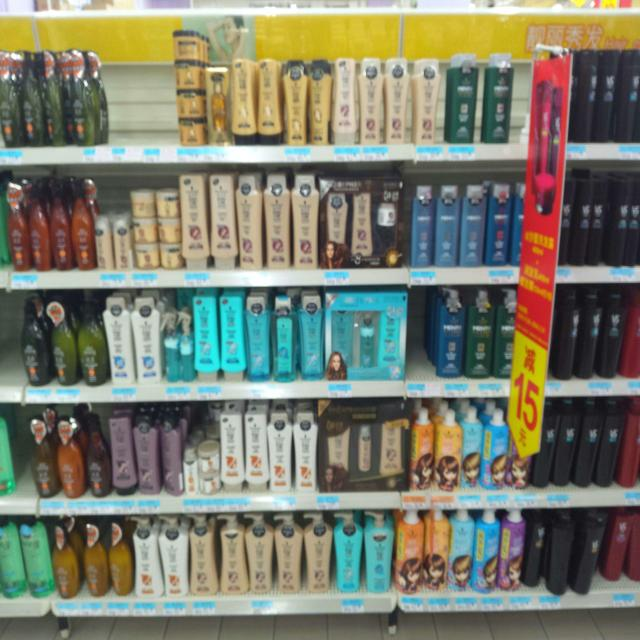empty: (99, 33, 181, 149), (398, 285, 443, 380), (1, 297, 29, 389)
